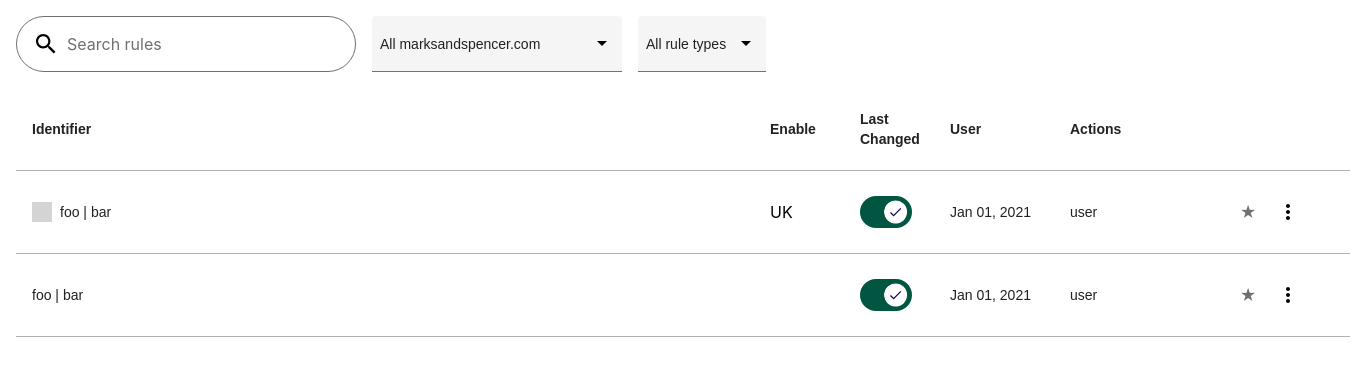
Test: TablePanel › favourite functionality › should display an error message when favourite persistence fails
This screenshot has width=1366, height=378.
Click the button titled "Add to favourites" in the row of "UK".
click(1248, 212)  # box [1228, 188, 1268, 236]
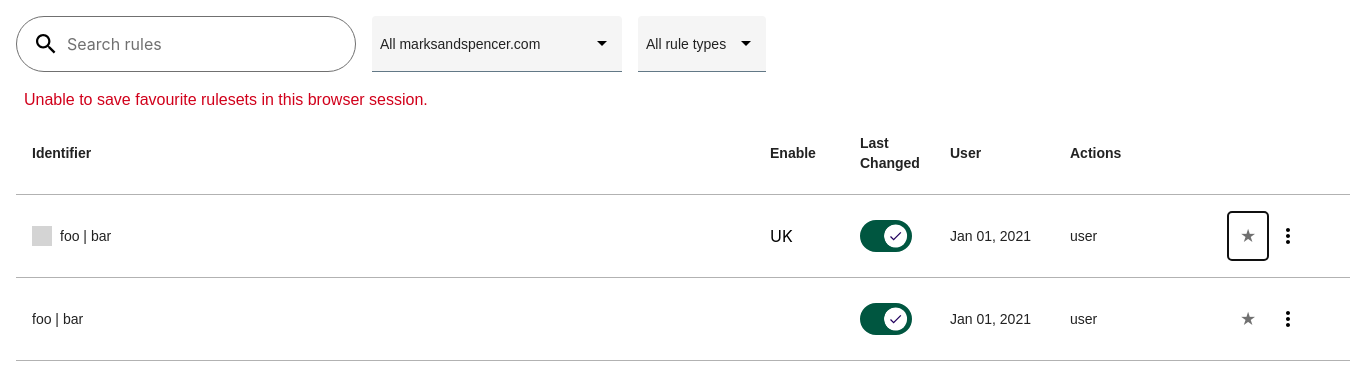
Expected: the text "Unable to save favourite rulesets in this browser session." is shown, [24, 91, 428, 108]
